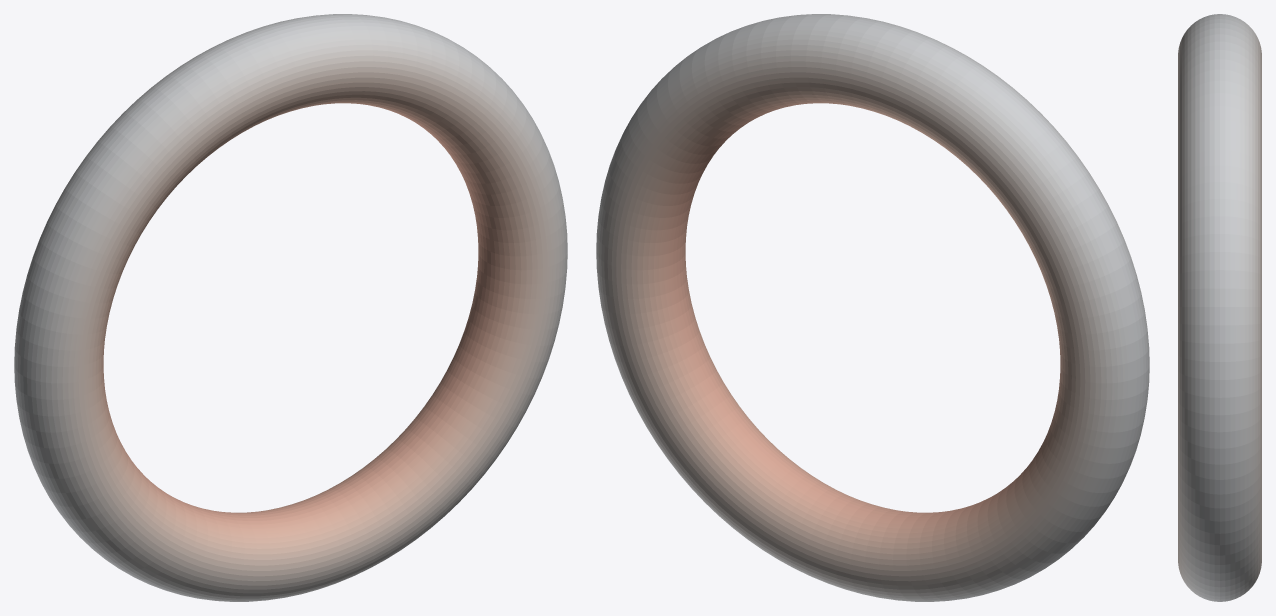
3 views of the same model, side by side, from view 1: azimuth 30°, elevation 25°; view 2: azimuth 150°, elevation 25°; view 3: azimuth 270°, elevation 25° (orthographic). The views are drawn at different scales.
Visible parts, largest first — view 1: world; view 2: world; view 3: world.
Boxes of the visible parts, bbox=[...] form: world: bbox=[14, 14, 567, 601]; world: bbox=[596, 14, 1149, 601]; world: bbox=[1178, 14, 1261, 601].
Size of the model in its own units: 32.67 by 32.67 by 4.66.
